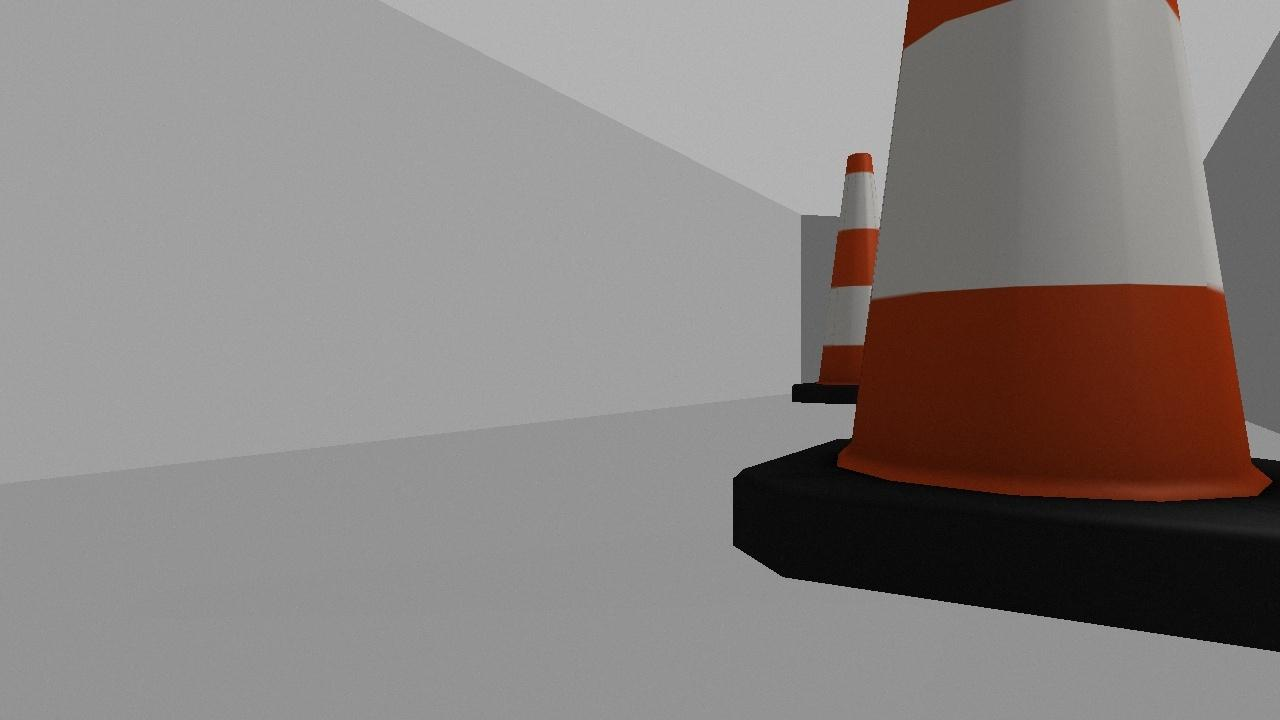cone_barrel: (732, 0, 1279, 656), (789, 149, 920, 404)
